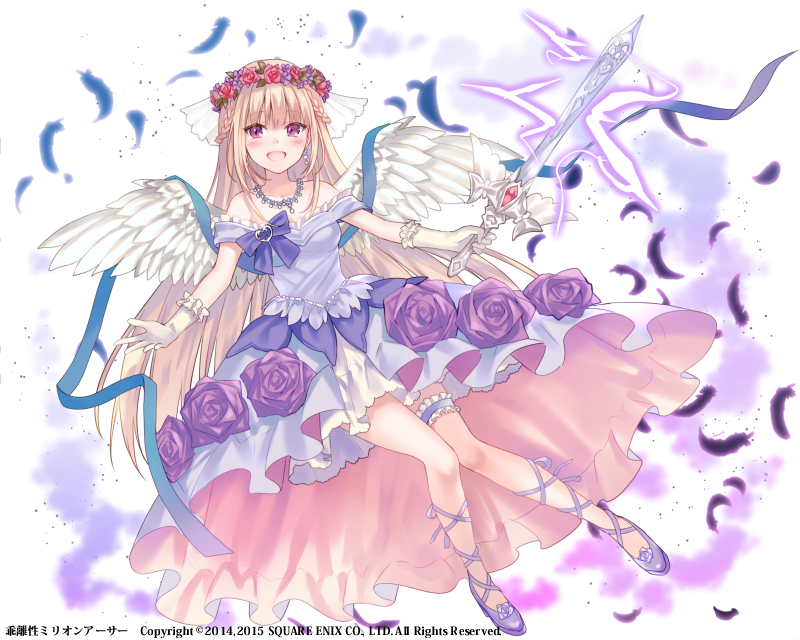纸片人正脸: (211, 54, 335, 185)
